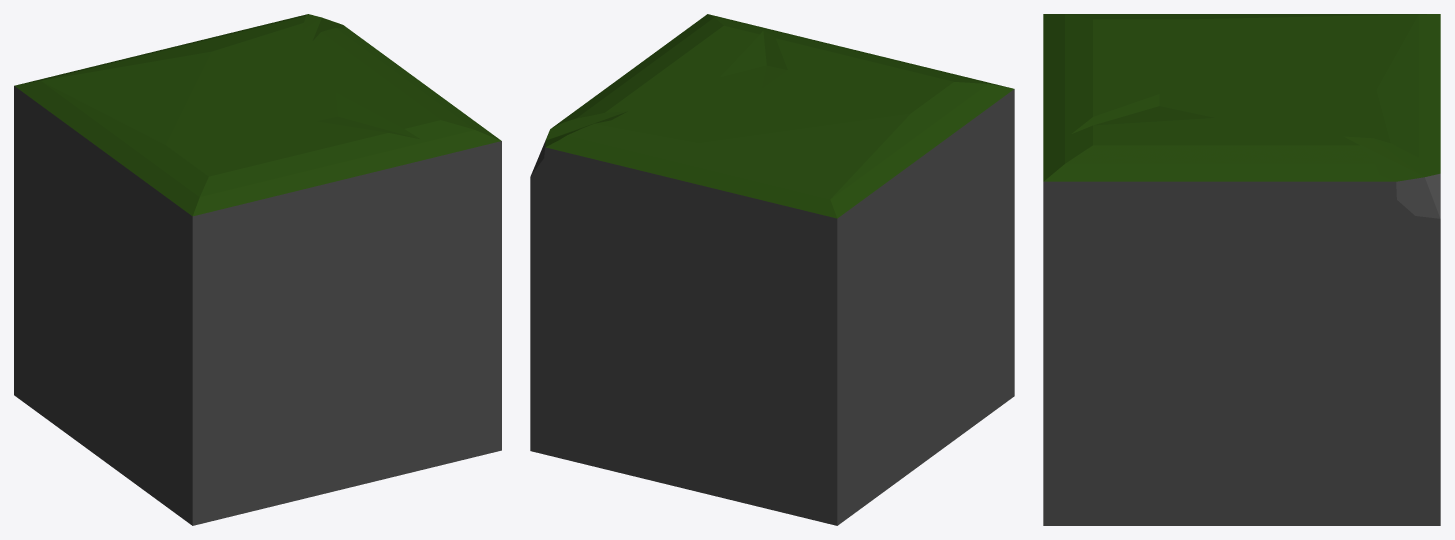
Rendered from Floor crack 1.fbx.
3 renders of one model, left to right at view 1: azimuth 30°, elevation 25°; view 2: azimuth 150°, elevation 25°; view 3: azimuth 270°, elevation 25°, orthographic. The views are drawn at different scales.
Visible parts, largest first — view 1: Floor crack 2; view 2: Floor crack 2; view 3: Floor crack 2.
Part boxes in pixels (box(x1,y1,x2,y2)): Floor crack 2: box(14, 14, 501, 525); Floor crack 2: box(530, 14, 1014, 525); Floor crack 2: box(1043, 14, 1440, 525).
Size of the model in its own units: 100 by 100 by 100.
